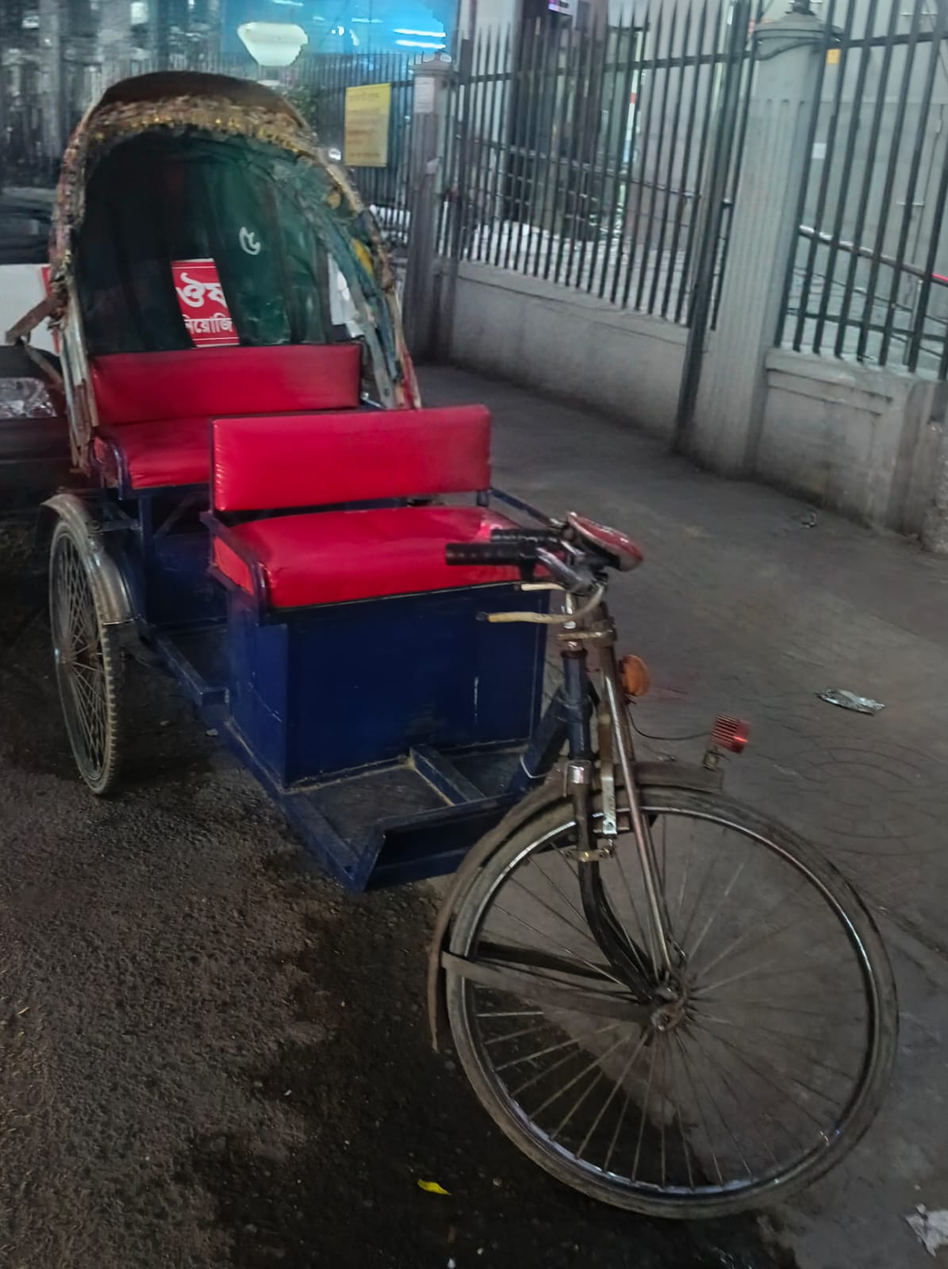auto-ricksaw: (24, 73, 927, 1208)
